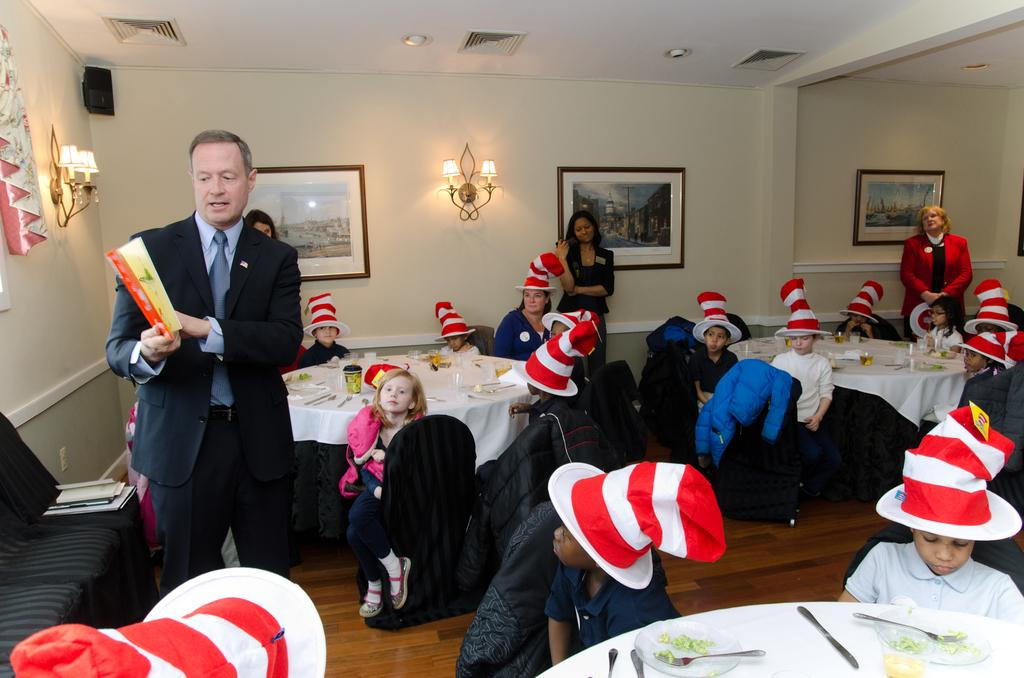Hat: (10, 566, 324, 677), (544, 458, 724, 590), (871, 399, 1023, 543), (509, 319, 595, 396), (774, 278, 832, 340), (963, 276, 1017, 338), (949, 330, 1023, 368), (690, 294, 742, 348), (304, 290, 350, 340), (513, 252, 563, 294), (840, 280, 878, 329), (360, 358, 410, 391), (436, 300, 474, 343), (906, 300, 930, 336)
